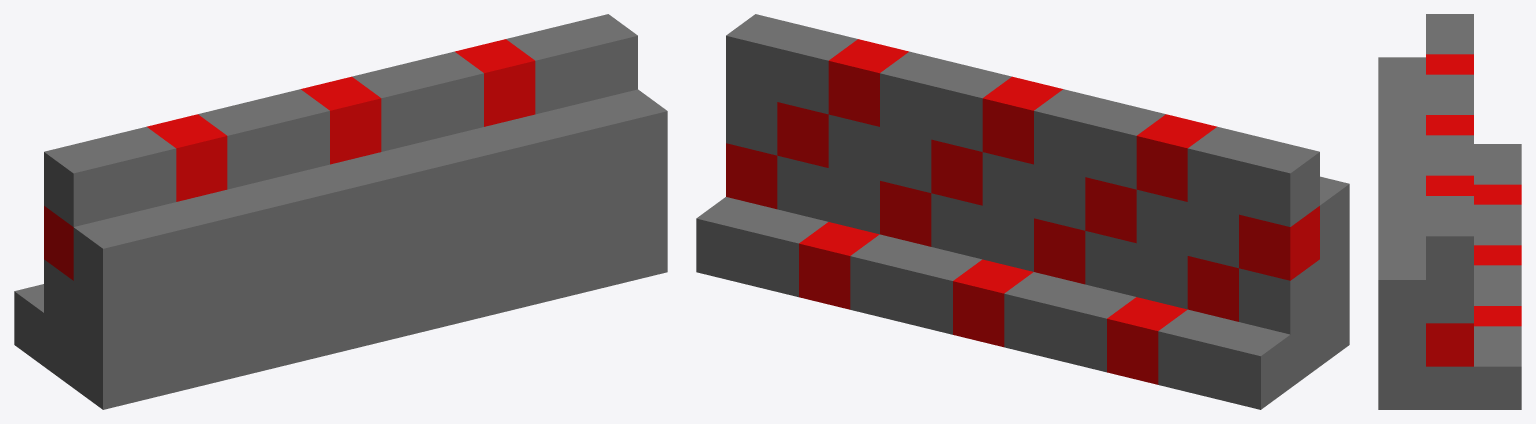
The model's file is stopblock.obj.
The picture shows the model from 3 angles, left to right: view 1: azimuth 30°, elevation 25°; view 2: azimuth 150°, elevation 25°; view 3: azimuth 270°, elevation 25°; orthographic projection. The views are drawn at different scales.
Bounding box in the file's own units: 1.1 × 0.4 × 0.3.
1 material, 1 textured.
